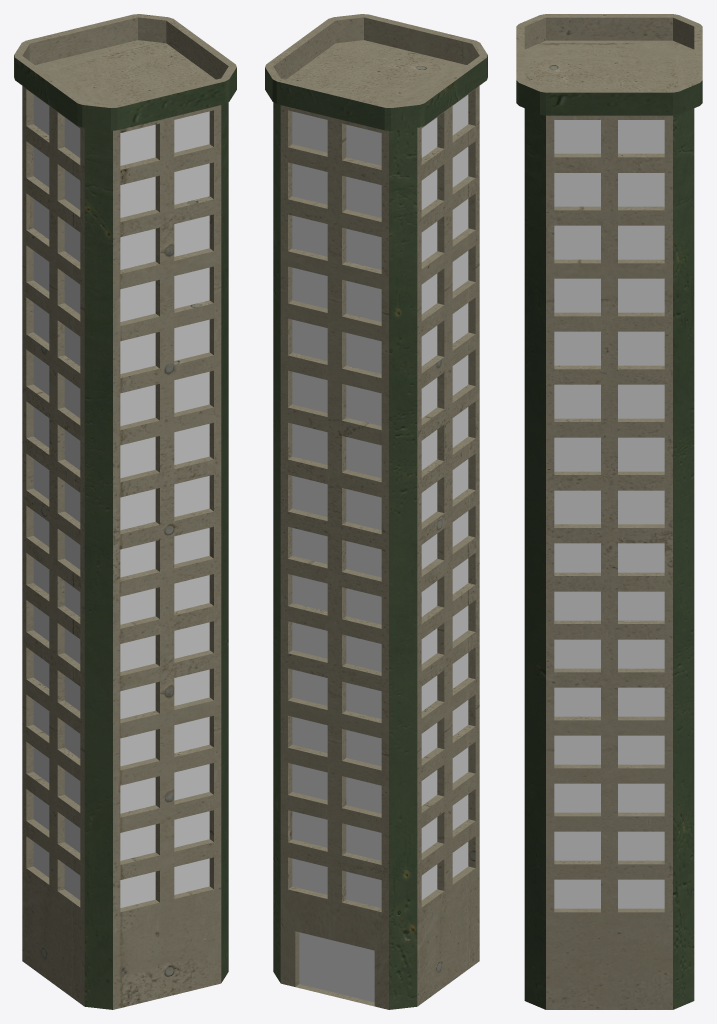
Rendered from building2.fbx.
3 views of the same model, side by side, from view 1: azimuth 30°, elevation 25°; view 2: azimuth 150°, elevation 25°; view 3: azimuth 270°, elevation 25° (orthographic).
Parts seen in each view (by area): view 1: Plane.001; view 2: Plane.001; view 3: Plane.001.
Boxes of the visible parts, left/top/right/bottom form: Plane.001: left=14, top=14, right=236, bottom=1009; Plane.001: left=265, top=14, right=487, bottom=1009; Plane.001: left=516, top=14, right=702, bottom=1009.
Size of the model in its own units: 220 by 1200 by 220.
